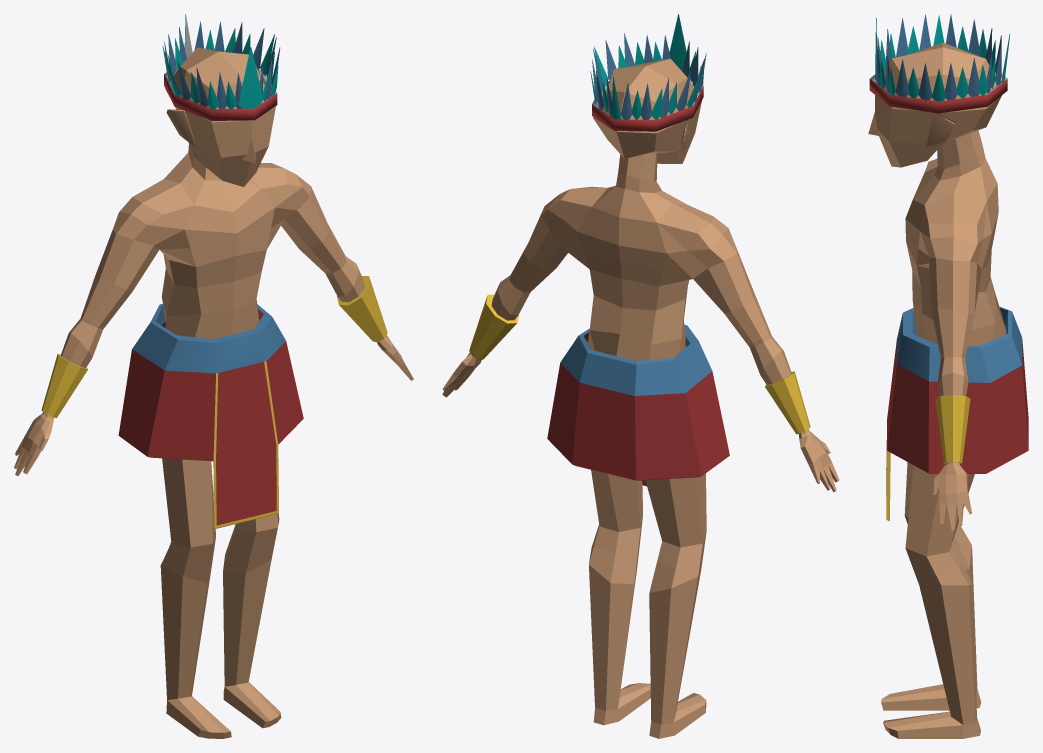
The model's file is indio_T3.fbx.
3 renders of one model, left to right at view 1: azimuth 30°, elevation 25°; view 2: azimuth 150°, elevation 25°; view 3: azimuth 270°, elevation 25°, orthographic. The views are drawn at different scales.
Parts seen in each view (by area): view 1: polySurface6; view 2: polySurface6; view 3: polySurface6.
Boxes of the visible parts, bbox=[...] form: polySurface6: bbox=[14, 14, 413, 738]; polySurface6: bbox=[442, 14, 839, 738]; polySurface6: bbox=[868, 14, 1028, 738].
Size of the model in its own units: 3.88 by 6.44 by 1.34.
